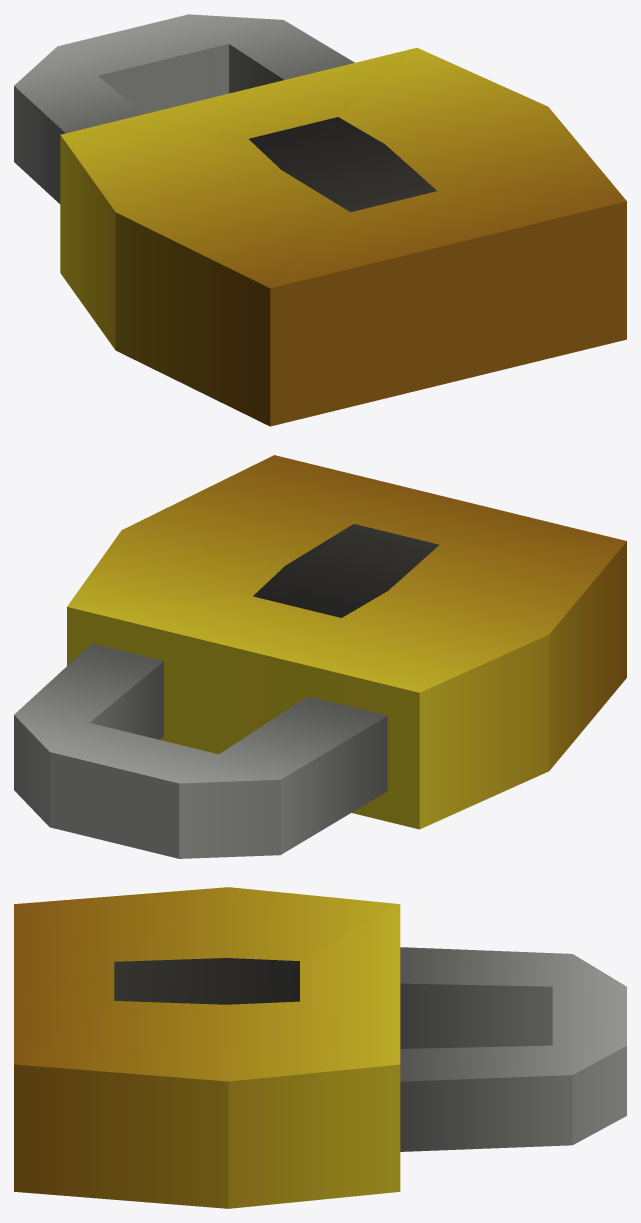
Rendered from Padlock.fbx.
3 views of the same model, one above another, from view 1: azimuth 30°, elevation 25°; view 2: azimuth 150°, elevation 25°; view 3: azimuth 270°, elevation 25° (orthographic). The views are drawn at different scales.
Parts seen in each view (by area): view 1: Padlock; view 2: Padlock; view 3: Padlock.
Boxes of the visible parts, <box> form: Padlock: <box>14,14,626,426</box>; Padlock: <box>14,455,626,858</box>; Padlock: <box>14,887,626,1208</box>.
Size of the model in its own units: 14.12 by 18.82 by 4.41.
Materials: 1 (1 with a texture image).
